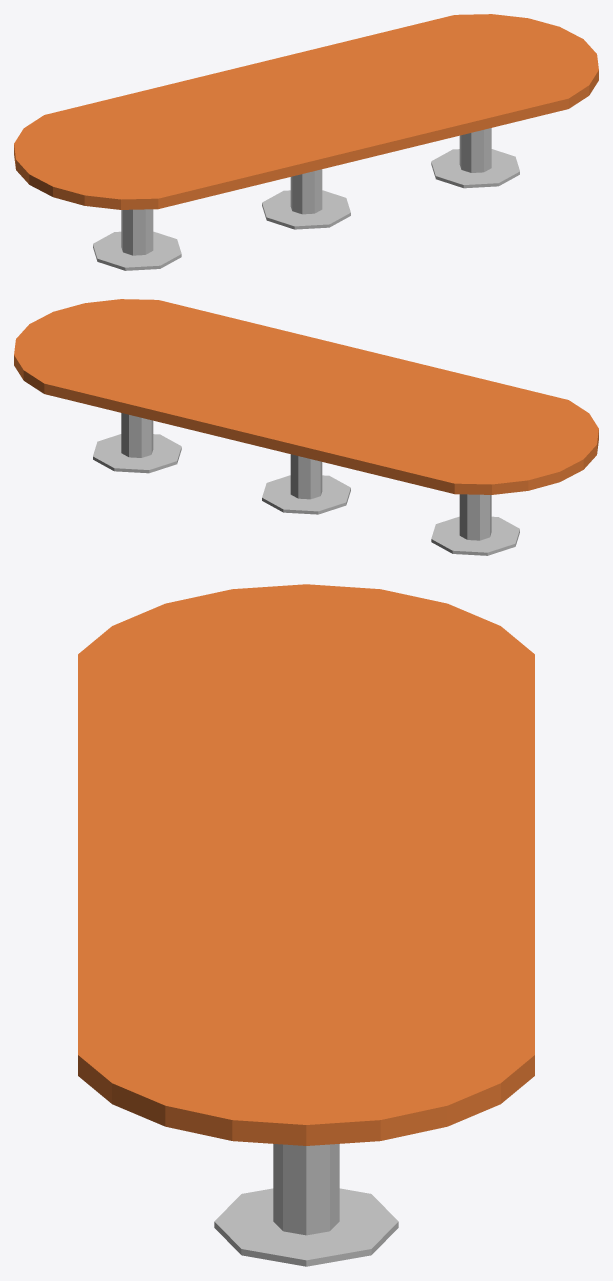
File: Mesa Reuniones.fbx
3 views of the same model, one above another, from view 1: azimuth 30°, elevation 25°; view 2: azimuth 150°, elevation 25°; view 3: azimuth 270°, elevation 25° (orthographic). The views are drawn at different scales.
Visible parts, largest first — view 1: MesaReuniones; view 2: MesaReuniones; view 3: MesaReuniones.
Boxes of the visible parts, bbox=[...] form: MesaReuniones: bbox=[14, 14, 598, 270]; MesaReuniones: bbox=[14, 299, 598, 555]; MesaReuniones: bbox=[78, 584, 534, 1266].
Size of the model in its own units: 561 by 101 by 200.
